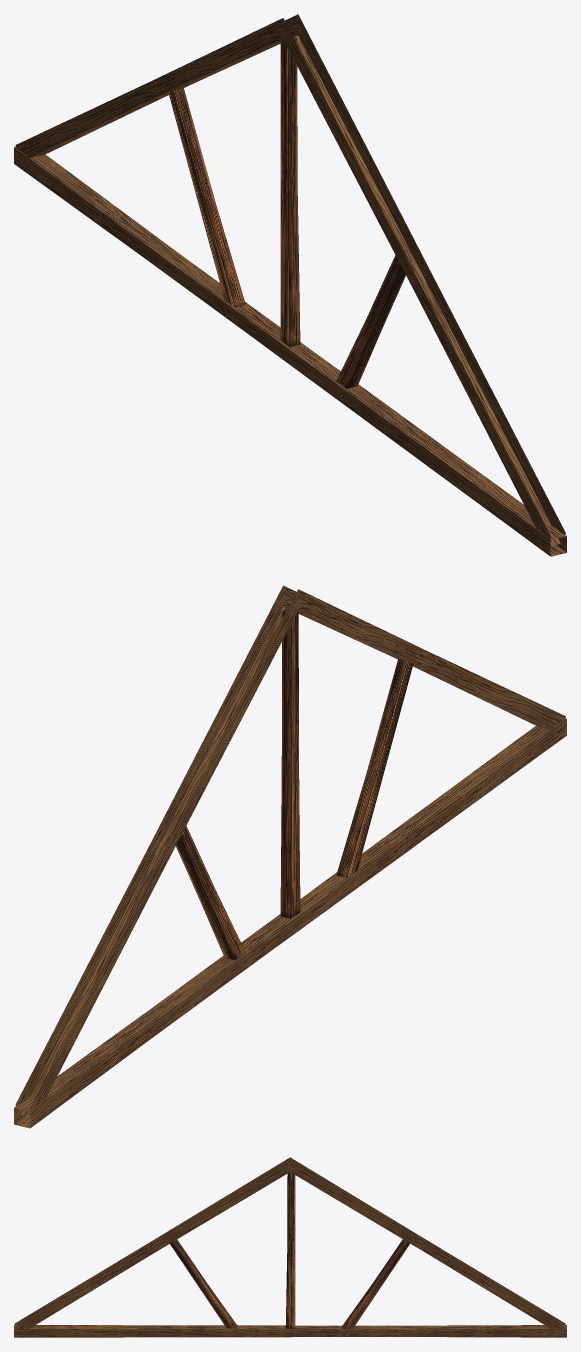
File: INST_LT_WH2_RAFTERS_01.fbx
The picture shows the model from 3 angles, top to bottom: view 1: azimuth 30°, elevation 25°; view 2: azimuth 150°, elevation 25°; view 3: azimuth 270°, elevation 25°; orthographic projection. The views are drawn at different scales.
Visible parts, largest first — view 1: INST_LT_WH2_RAFTERS_01; view 2: INST_LT_WH2_RAFTERS_01; view 3: INST_LT_WH2_RAFTERS_01.
Boxes of the visible parts, x1,y1,x2,y2 form: INST_LT_WH2_RAFTERS_01: [14, 14, 566, 556]; INST_LT_WH2_RAFTERS_01: [14, 585, 566, 1128]; INST_LT_WH2_RAFTERS_01: [14, 1157, 566, 1337].
Bounding box in the file's own units: 3936 × 79491 × 225732.
Materials: 2 (2 with a texture image).
